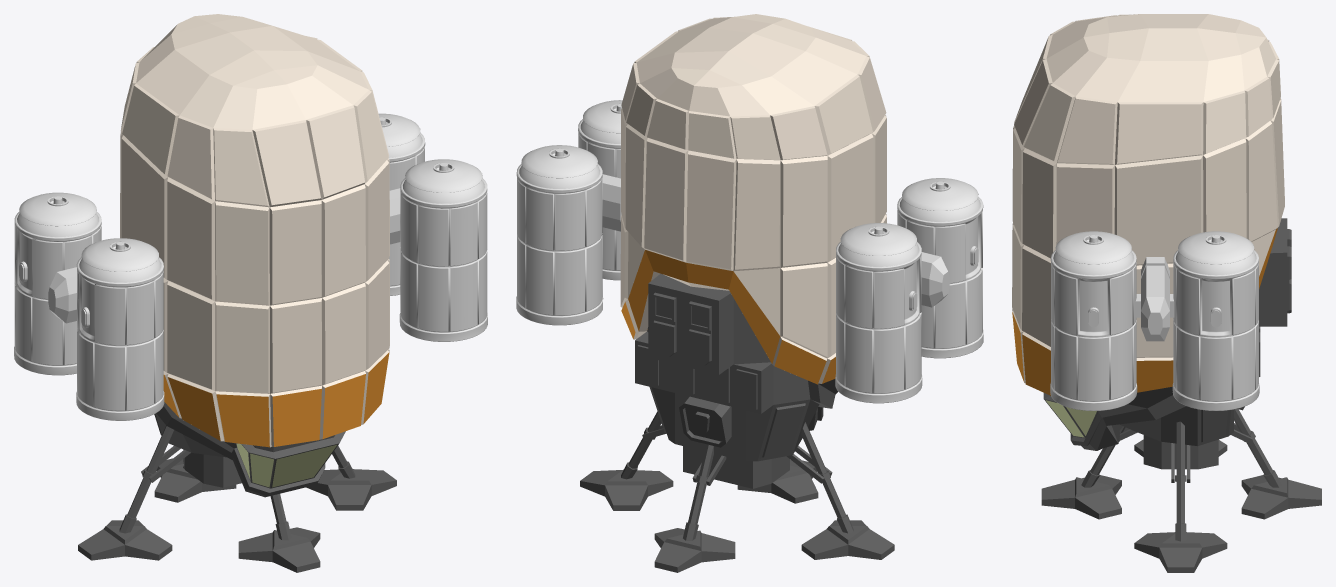
Rendered from dsed-ship.glb.
The picture shows the model from 3 angles, left to right: view 1: azimuth 30°, elevation 25°; view 2: azimuth 150°, elevation 25°; view 3: azimuth 270°, elevation 25°; orthographic projection.
Visible parts, largest first — view 1: ShipBody2Detail, Nascelle.004, Nascelle.003, Nascelle.002, LandingGearStarboard, LandingGearFront, Nascelle.001, LandingGearPort, NascellesSupport, LandingGearAft; view 2: ShipBody2Detail, Nascelle.002, Nascelle.001, Nascelle.003, LandingGearStarboard, LandingGearAft, Nascelle.004, LandingGearPort, NascellesSupport, LandingGearFront; view 3: ShipBody2Detail, Nascelle.004, Nascelle.001, LandingGearPort, LandingGearAft, LandingGearFront, NascellesSupport.
Boxes of the visible parts, x1,y1,x2,y2 form: ShipBody2Detail: (120,14,389,497); Nascelle.004: (399,159,487,341); Nascelle.003: (76,238,164,420); Nascelle.002: (14,192,101,375); LandingGearStarboard: (78,425,190,560); LandingGearFront: (238,494,320,572); Nascelle.001: (378,113,425,295); LandingGearPort: (306,445,396,510); NascellesSupport: (48,188,400,323); LandingGearAft: (154,458,236,502); ShipBody2Detail: (620,14,886,488); Nascelle.002: (835,223,922,403); Nascelle.001: (516,145,603,325); Nascelle.003: (897,178,983,358); LandingGearStarboard: (787,422,894,559); LandingGearAft: (654,444,735,572); Nascelle.004: (578,100,622,280); LandingGearPort: (580,411,673,510); NascellesSupport: (602,174,949,307); LandingGearFront: (737,459,818,503); ShipBody2Detail: (1012,14,1291,469); Nascelle.004: (1050,231,1137,410); Nascelle.001: (1172,231,1259,410); LandingGearPort: (1134,421,1227,572); LandingGearAft: (1231,409,1321,519); LandingGearFront: (1041,426,1137,519); NascellesSupport: (1135,257,1174,341).
Bounding box in the file's own units: 11.13 × 12.75 × 7.59.
